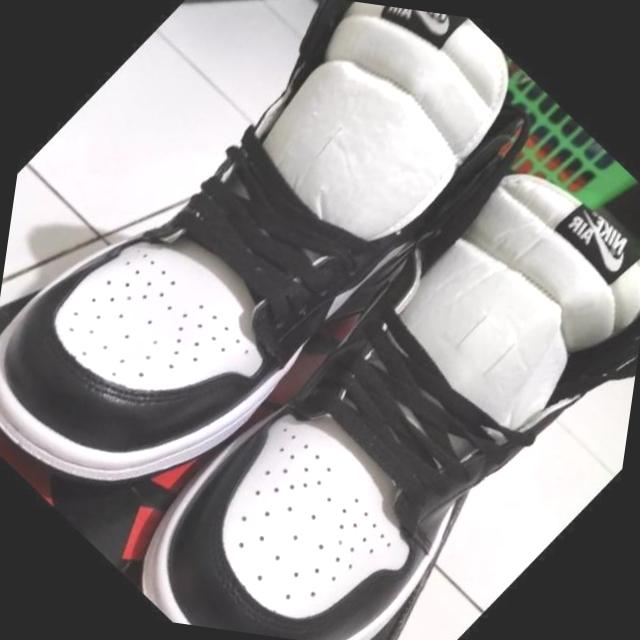nike_fake_jordan: (0, 0, 576, 614), (98, 73, 640, 640)
